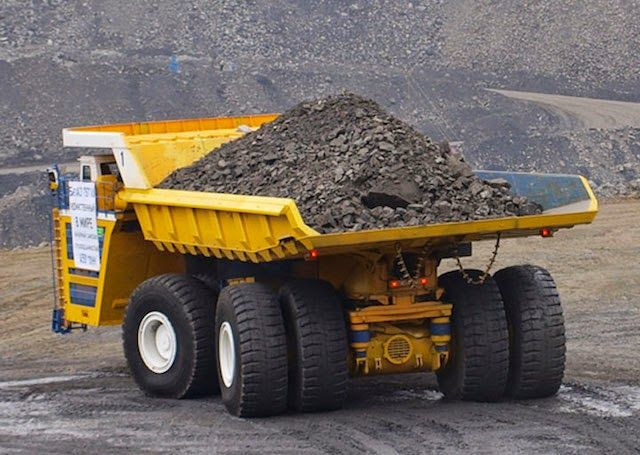truck: (43, 89, 599, 420)
